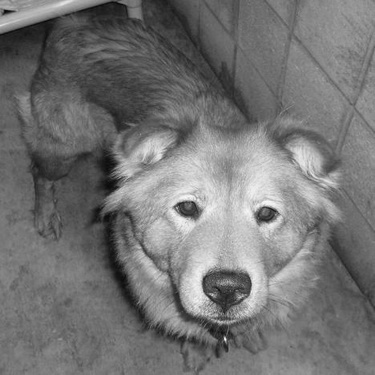dog: (11, 9, 341, 369)
